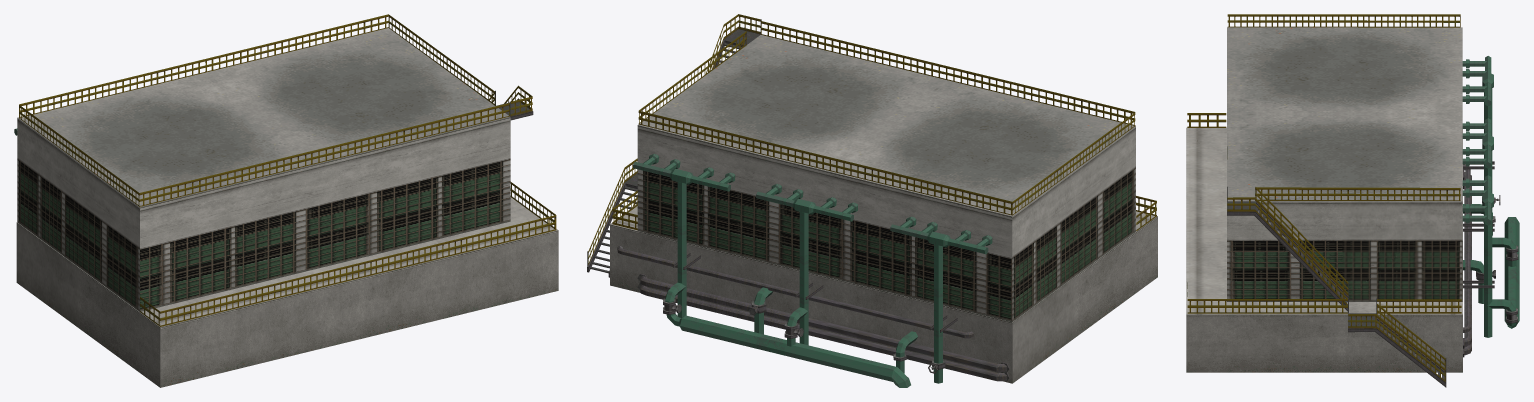
Rendered from 层流冷却塔.obj.
3 renders of one model, left to right at view 1: azimuth 30°, elevation 25°; view 2: azimuth 150°, elevation 25°; view 3: azimuth 270°, elevation 25°, orthographic. The views are drawn at different scales.
Parts seen in each view (by area): view 1: Object130; view 2: Object130; view 3: Object130.
Part boxes in pixels (bbox=[...]): Object130: bbox=[14, 14, 558, 387]; Object130: bbox=[587, 14, 1157, 387]; Object130: bbox=[1186, 14, 1519, 387].
Bounding box in the file's own units: 68.68 × 28.05 × 47.98.
